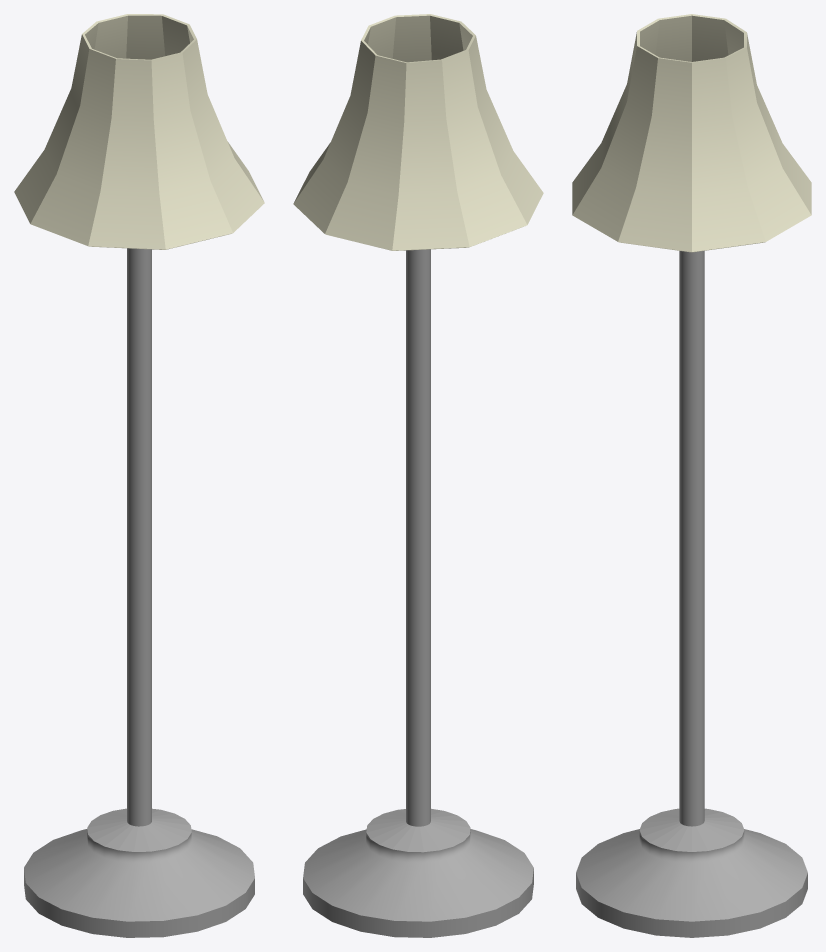
The model's file is FloorLamp.fbx.
The picture shows the model from 3 angles, left to right: view 1: azimuth 30°, elevation 25°; view 2: azimuth 150°, elevation 25°; view 3: azimuth 270°, elevation 25°; orthographic projection.
Visible parts, largest first — view 1: pCylinder3; view 2: pCylinder3; view 3: pCylinder3.
Part boxes in pixels (x1,y1,x2,y2): pCylinder3: (14,14,264,937); pCylinder3: (293,14,543,937); pCylinder3: (572,14,811,937).
Bounding box in the file's own units: 0.8494 × 3.17 × 0.8079.
